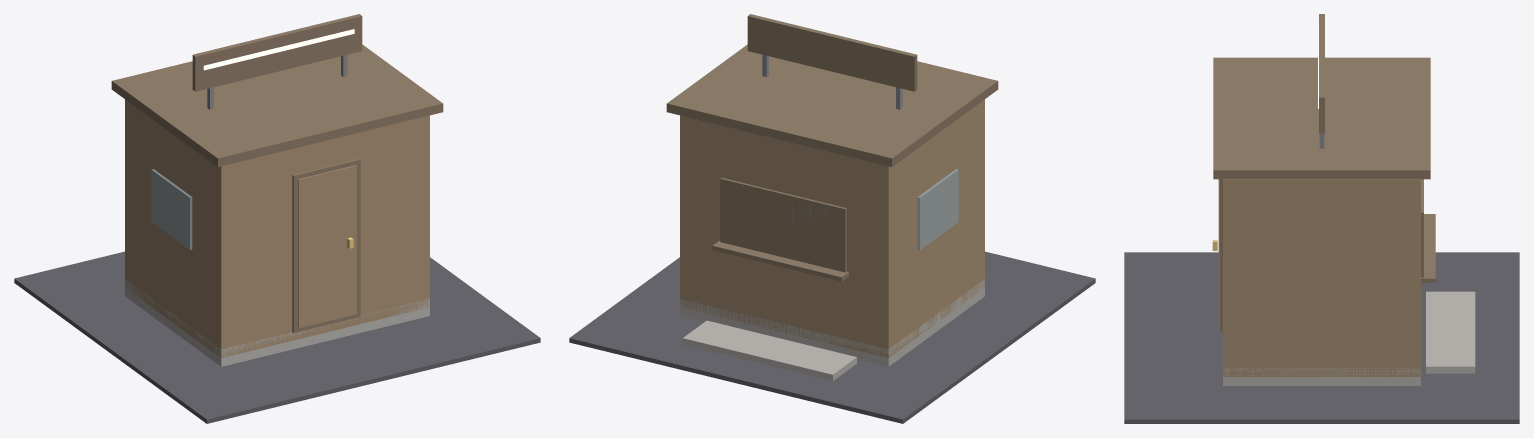
File: ticket_booth.glb
3 renders of one model, left to right at view 1: azimuth 30°, elevation 25°; view 2: azimuth 150°, elevation 25°; view 3: azimuth 270°, elevation 25°, orthographic. The views are drawn at different scales.
Visible parts, largest first — view 1: body, floor, roof, door, sign_board, base, win_side, door_frame, sign_text; view 2: body, floor, roof, win_frame, sign_board, base, step, win_side, shelf; view 3: body, floor, roof, step, base, shelf, sign_board, door_frame.
Part boxes in pixels (bbox=[...]): body: bbox=[125, 99, 429, 357]; floor: bbox=[14, 251, 540, 423]; roof: bbox=[111, 44, 443, 166]; door: bbox=[298, 165, 356, 328]; sign_board: bbox=[192, 14, 362, 91]; base: bbox=[125, 279, 429, 366]; win_side: bbox=[151, 169, 192, 249]; door_frame: bbox=[292, 158, 360, 332]; sign_text: bbox=[203, 29, 354, 70]; body: bbox=[680, 99, 984, 357]; floor: bbox=[569, 251, 1095, 423]; roof: bbox=[666, 44, 998, 166]; win_frame: bbox=[720, 178, 846, 272]; sign_board: bbox=[747, 14, 917, 91]; base: bbox=[680, 279, 984, 366]; step: bbox=[682, 320, 856, 381]; win_side: bbox=[917, 169, 958, 249]; shelf: bbox=[712, 240, 848, 281]; body: bbox=[1223, 179, 1420, 376]; floor: bbox=[1124, 252, 1519, 423]; roof: bbox=[1213, 57, 1430, 179]; step: bbox=[1426, 291, 1475, 373]; base: bbox=[1223, 368, 1420, 385]; shelf: bbox=[1421, 214, 1435, 282]; sign_board: bbox=[1319, 14, 1324, 133]; door_frame: bbox=[1220, 179, 1222, 332].
Bounding box in the file's own units: 4 × 3.18 × 4.
